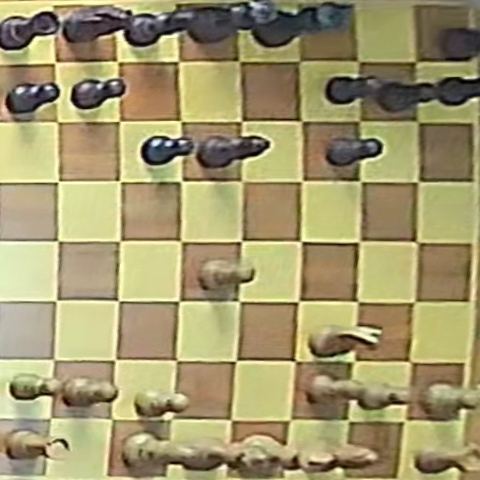black-bishop: (126, 7, 207, 47), (195, 135, 269, 168)
black-king: (252, 2, 351, 47)
black-knight: (62, 5, 132, 45)
black-pawn: (6, 82, 59, 117), (325, 136, 383, 167), (326, 76, 387, 105), (377, 82, 438, 111), (71, 78, 125, 110), (142, 136, 195, 166), (434, 75, 479, 107)
black-queen: (184, 1, 275, 48)
black-rook: (0, 10, 60, 50), (440, 27, 480, 60)
white-bishop: (124, 434, 197, 471), (297, 442, 379, 474)
white-king: (240, 434, 336, 476)
white-knight: (309, 323, 381, 357)
white-pawn: (417, 383, 478, 419), (60, 376, 119, 408), (308, 375, 368, 406), (198, 258, 254, 291), (135, 388, 189, 417), (10, 373, 62, 400), (358, 381, 408, 409)
white-queen: (175, 434, 269, 474)
white-rook: (3, 430, 69, 461), (415, 443, 479, 473)
